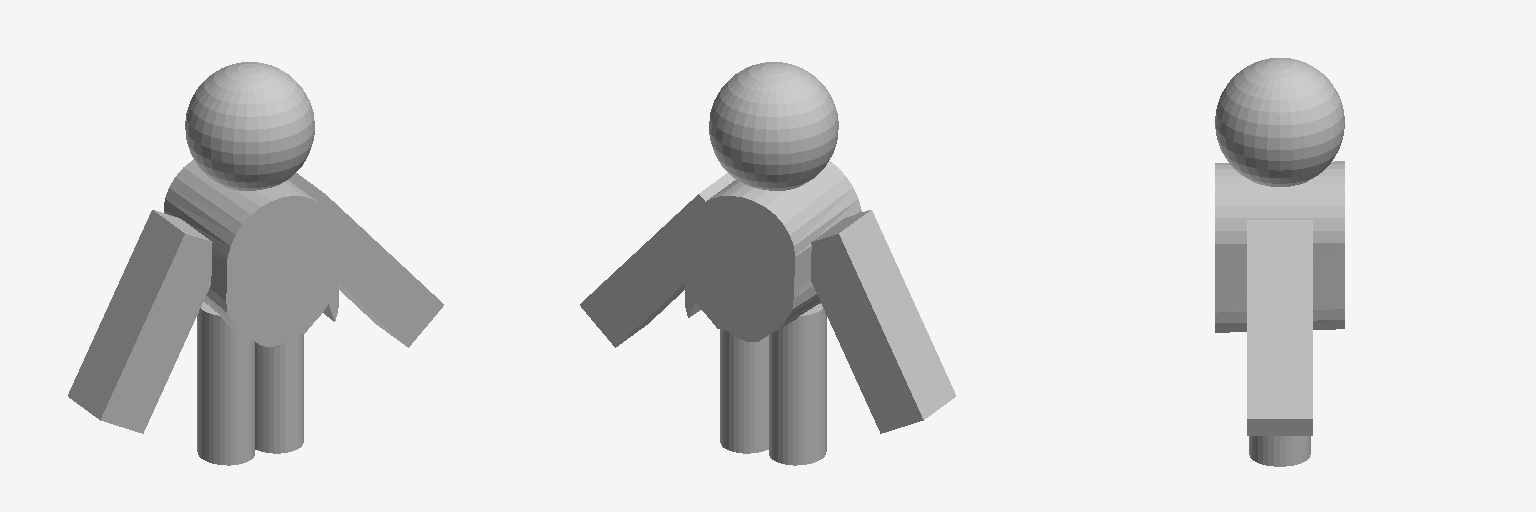
The model's file is Figurine39.obj.
The picture shows the model from 3 angles: view 1: azimuth 30°, elevation 25°; view 2: azimuth 150°, elevation 25°; view 3: azimuth 270°, elevation 25°; orthographic projection.
Visible parts, largest first — view 1: Cylinder; view 2: Cylinder; view 3: Cylinder.
Boxes of the visible parts, box(x1,y1,x2,y2) form: Cylinder: box(68, 62, 443, 465); Cylinder: box(580, 62, 955, 465); Cylinder: box(1215, 58, 1344, 466).
Bounding box in the file's own units: 6.1 × 6.42 × 2.